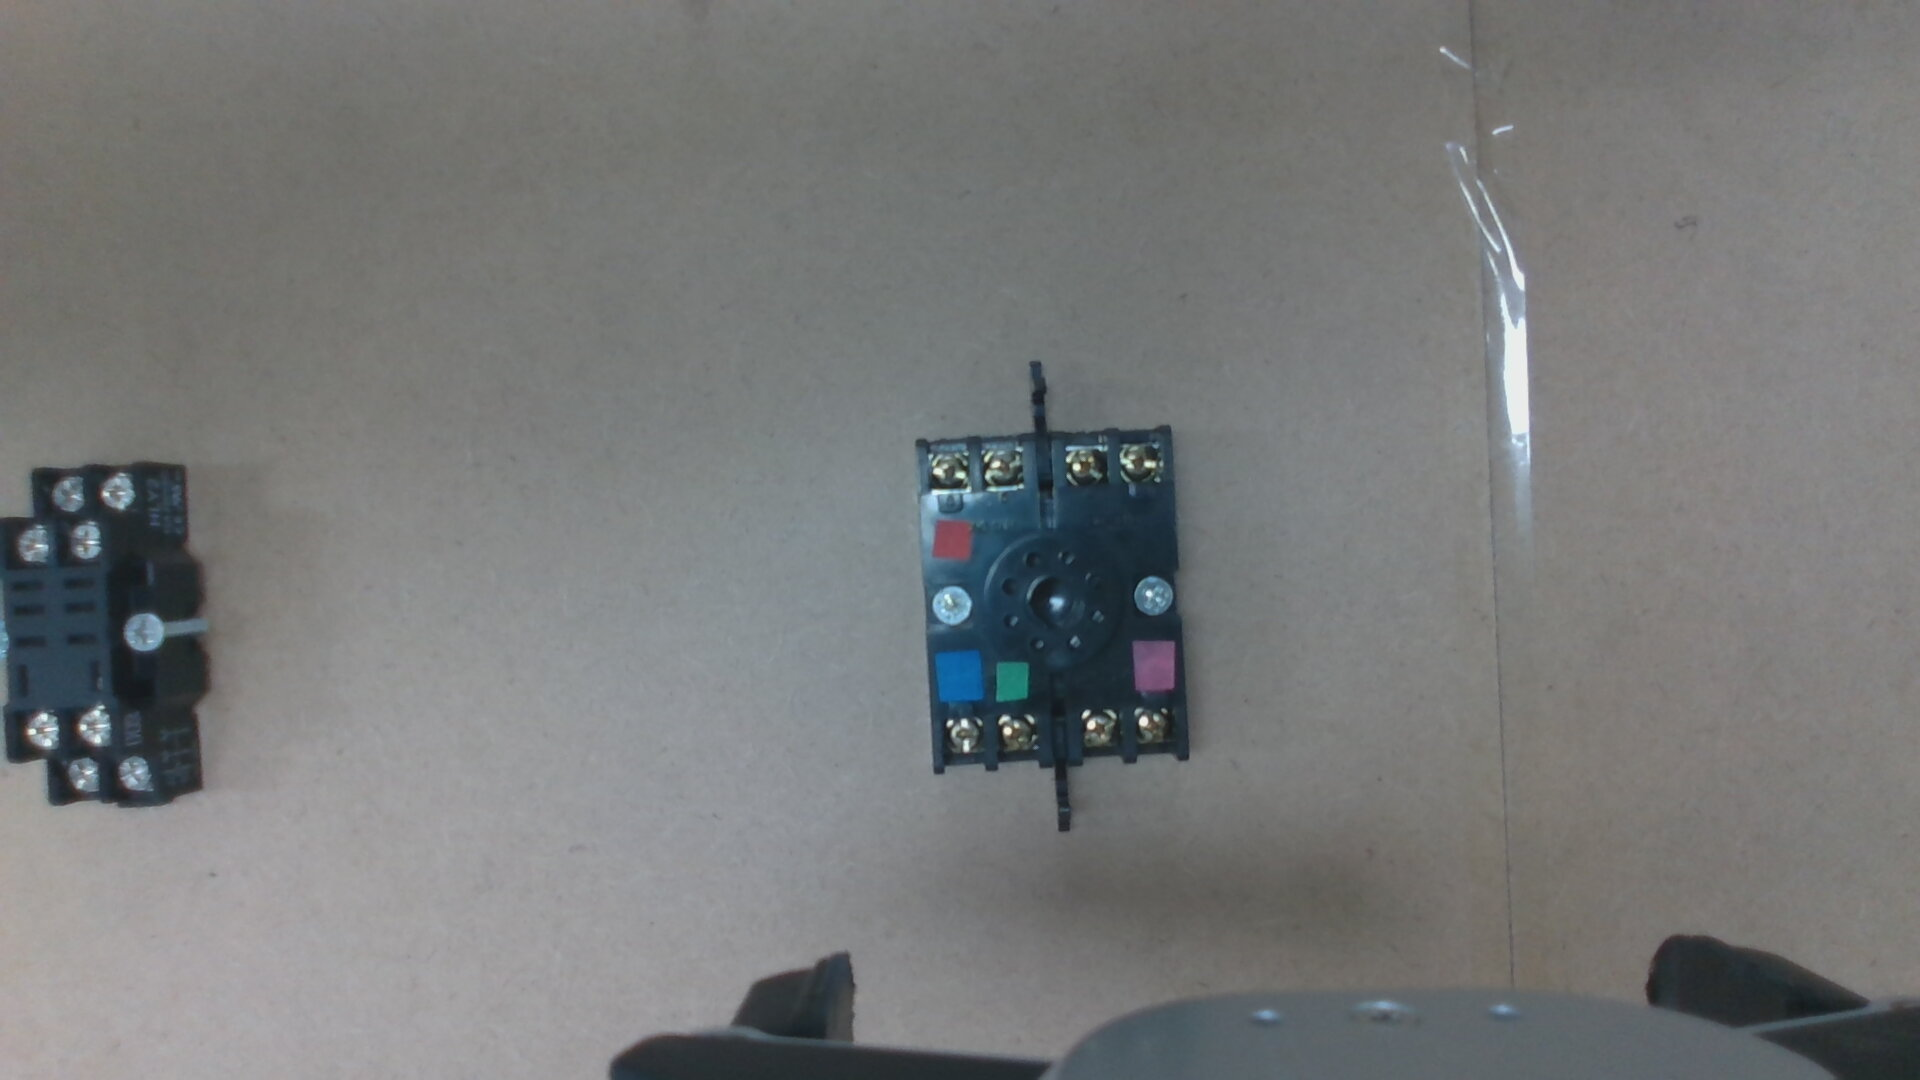timer 2: (1134, 709, 1171, 742)
timer 6: (928, 454, 968, 487)
timer 7: (944, 720, 981, 754)
timer 8: (997, 715, 1036, 752)
